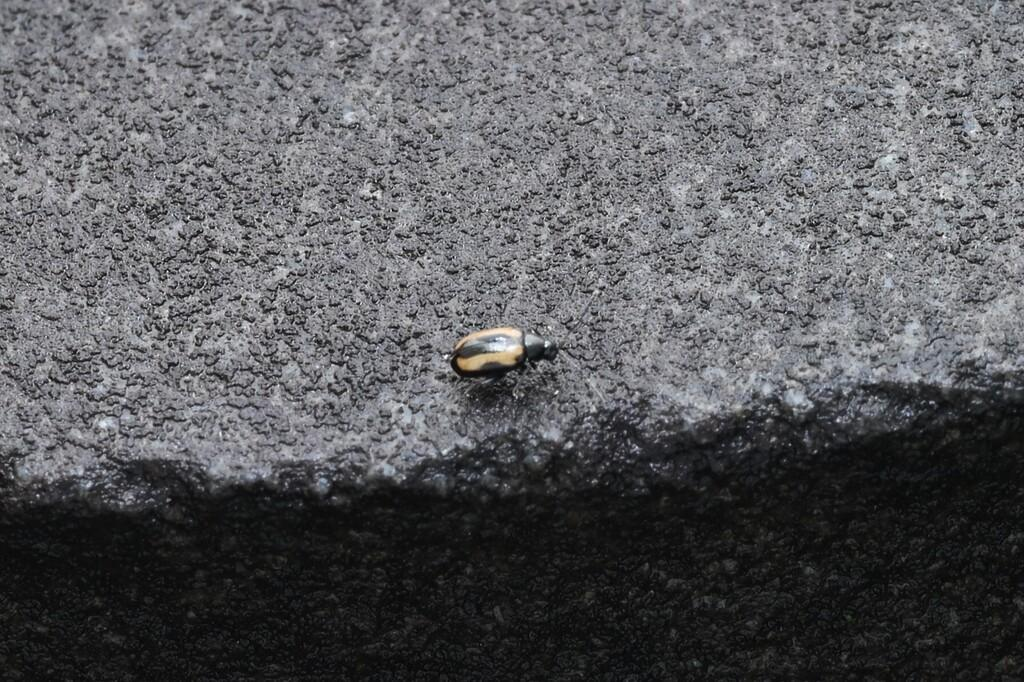flea_beetle: (421, 289, 590, 418)
